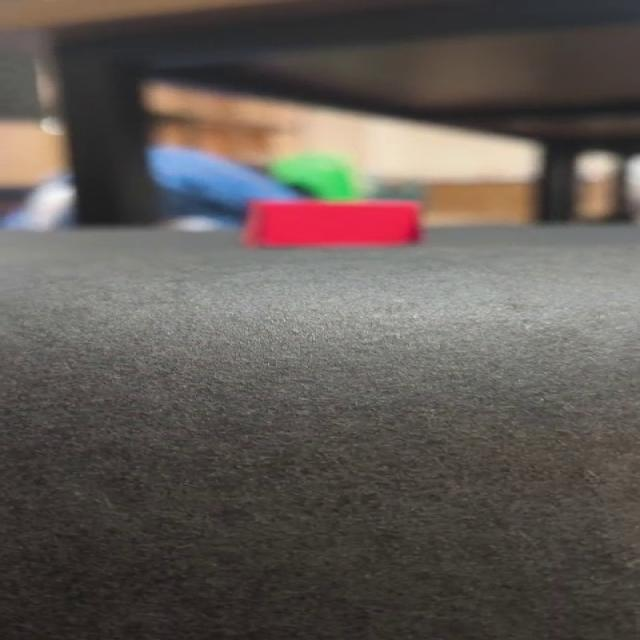red block: (240, 197, 423, 248)
